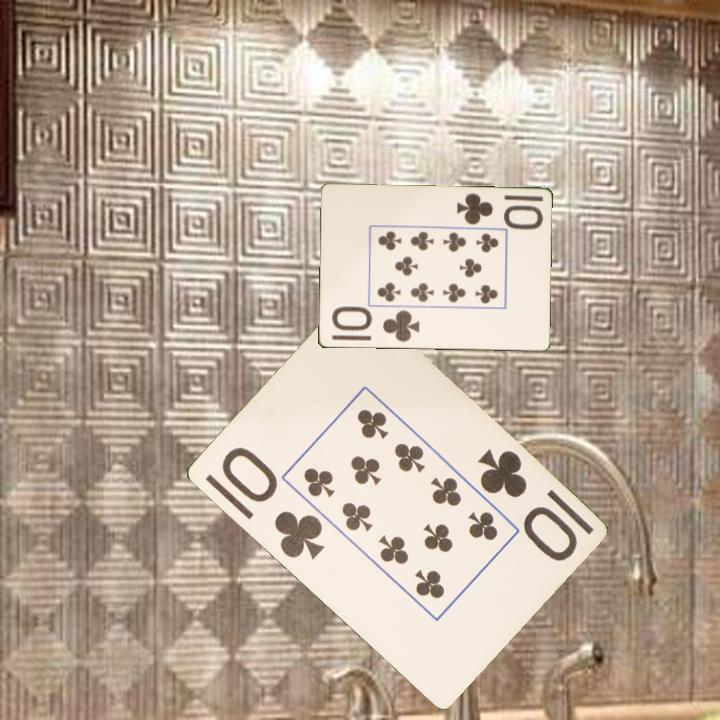10c: (217, 443, 327, 563), (473, 444, 580, 564), (328, 306, 422, 345), (453, 190, 546, 229)
